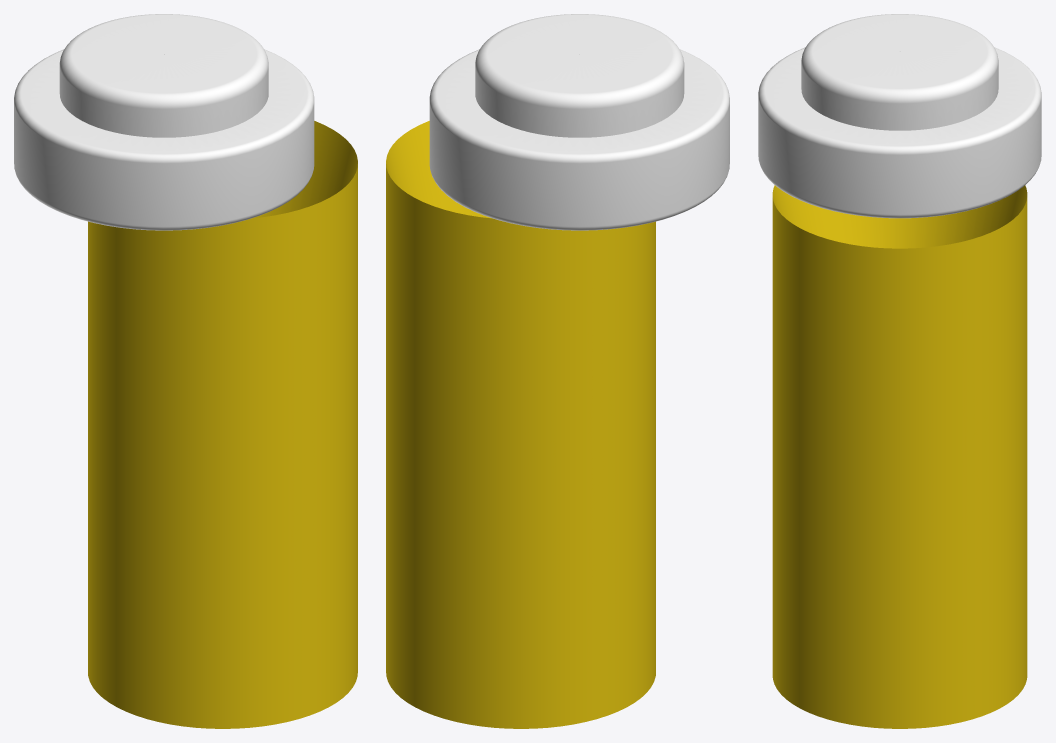
The model's file is pillBottle.gltf.
The picture shows the model from 3 angles, left to right: view 1: azimuth 30°, elevation 25°; view 2: azimuth 150°, elevation 25°; view 3: azimuth 270°, elevation 25°; orthographic projection. The views are drawn at different scales.
Size of the model in its own units: 0.0426 by 0.0859 by 0.0362.
